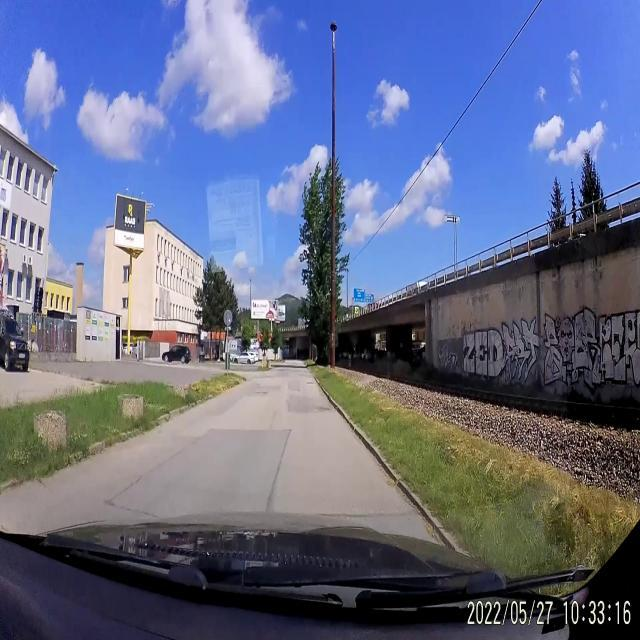Pothole: (304, 379, 318, 387)
